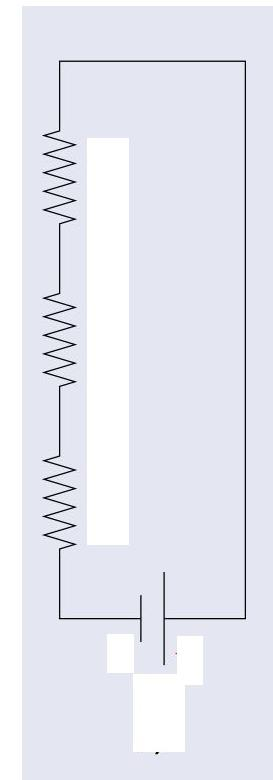resistor: (19, 99, 87, 249), (19, 439, 100, 561), (17, 283, 100, 399)
